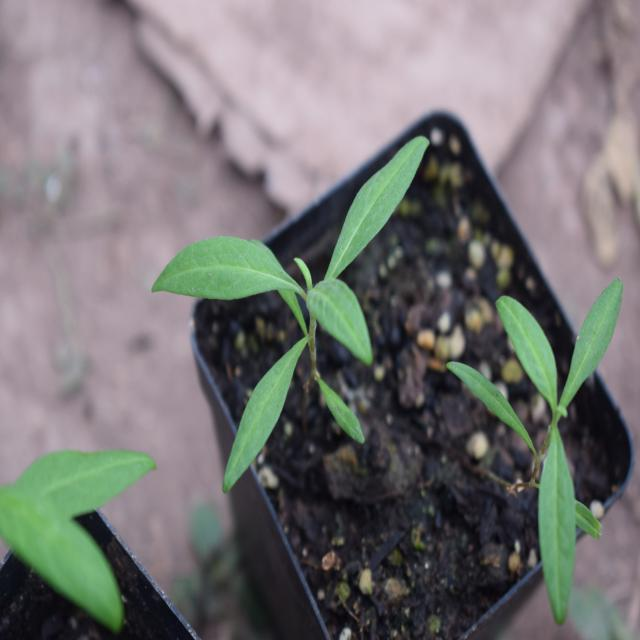white_smart_weed: (128, 111, 427, 498), (453, 253, 632, 614)
